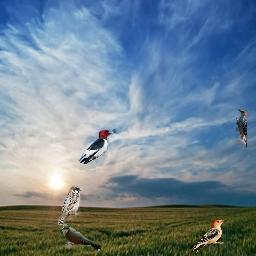Cuckoo: (61, 224, 101, 251)
Sparrow: (58, 185, 81, 225)
Woodpecker: (78, 128, 118, 164), (188, 219, 228, 254), (236, 108, 247, 148)
